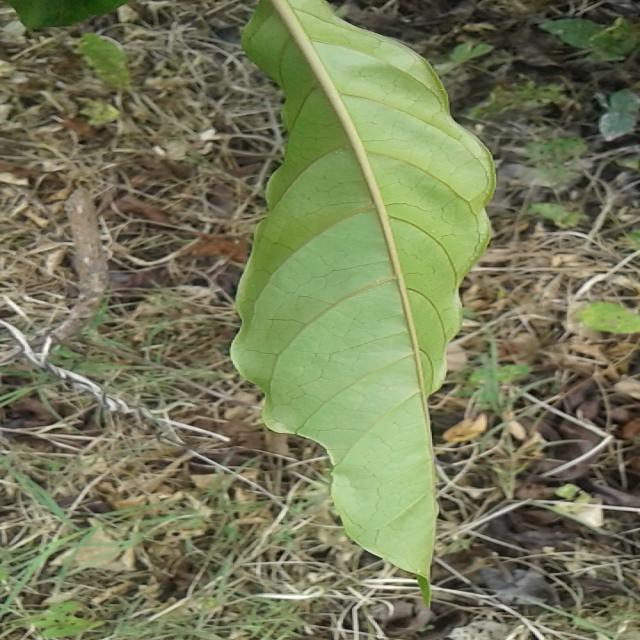Sanas: (229, 0, 496, 612)
